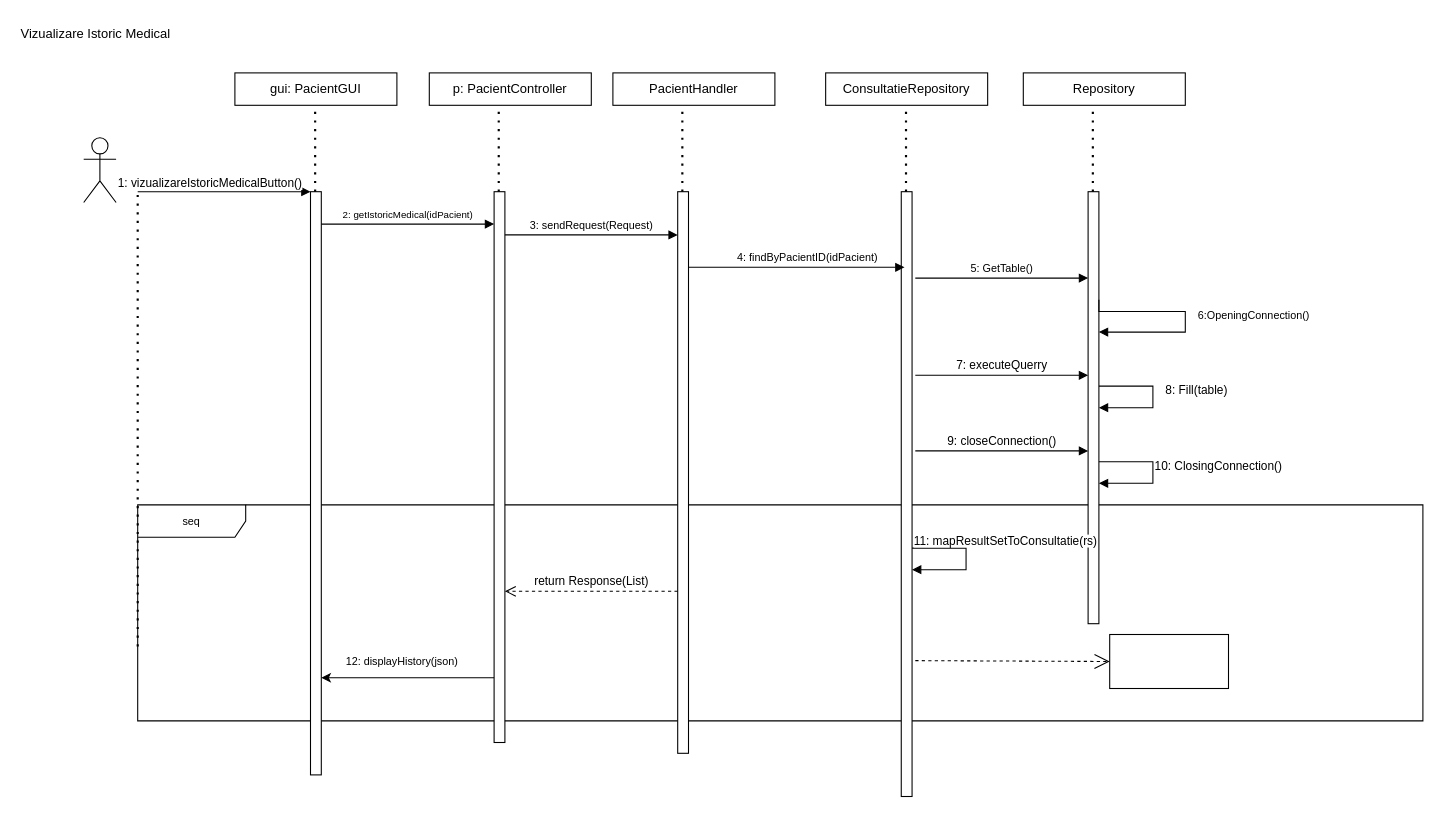
This 1442x815 diagram has some shape labels left out. Each missing label, with the box of its shape:
list: List<IstoricMedical>: (1109, 633, 1228, 688)
Pacient: (83, 137, 116, 202)
